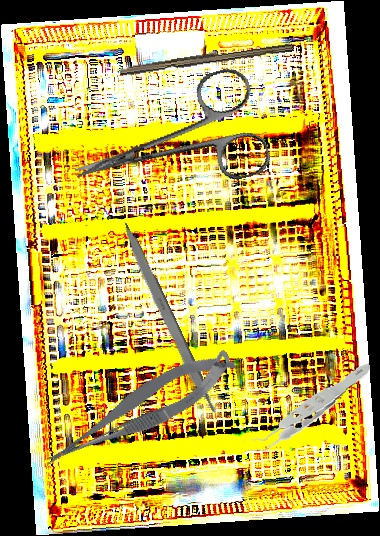Iris Scissors: (59, 63, 274, 223)
Micro Scissor: (31, 342, 246, 475)
Scalpel Handle: (116, 219, 220, 419), (119, 38, 293, 79)
Tissue Forceps: (236, 361, 377, 455)
